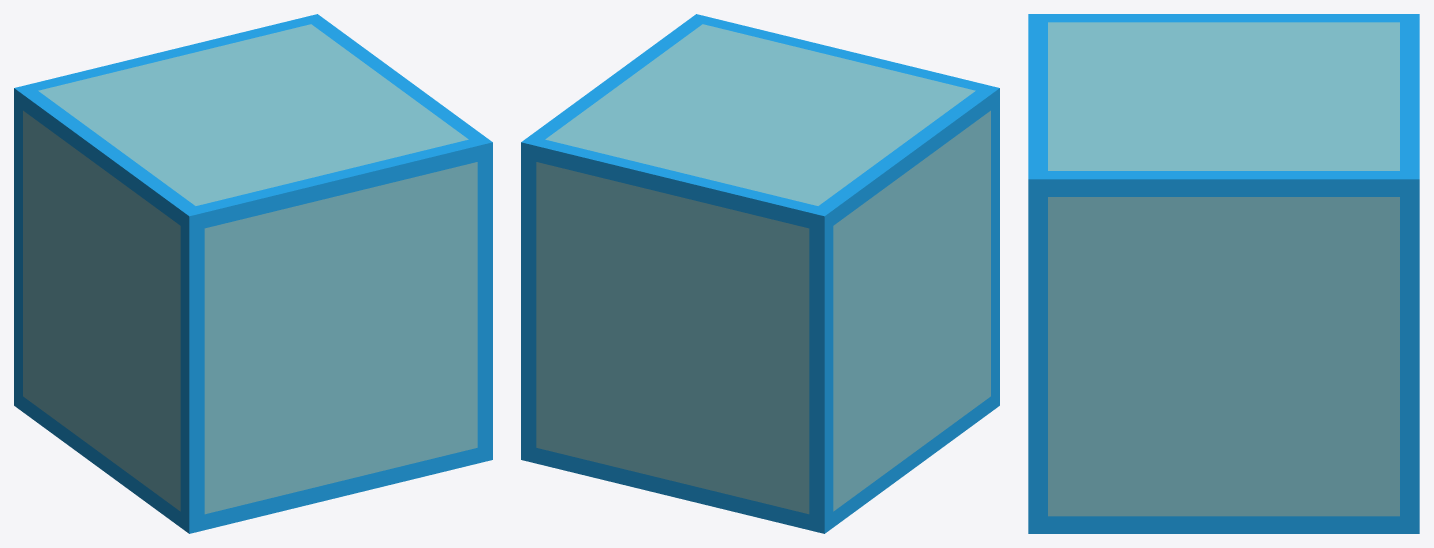
File: BasicBox.obj
3 renders of one model, left to right at view 1: azimuth 30°, elevation 25°; view 2: azimuth 150°, elevation 25°; view 3: azimuth 270°, elevation 25°, orthographic. The views are drawn at different scales.
Bounding box in the file's own units: 20 × 20 × 20.
1 material, 1 textured.
